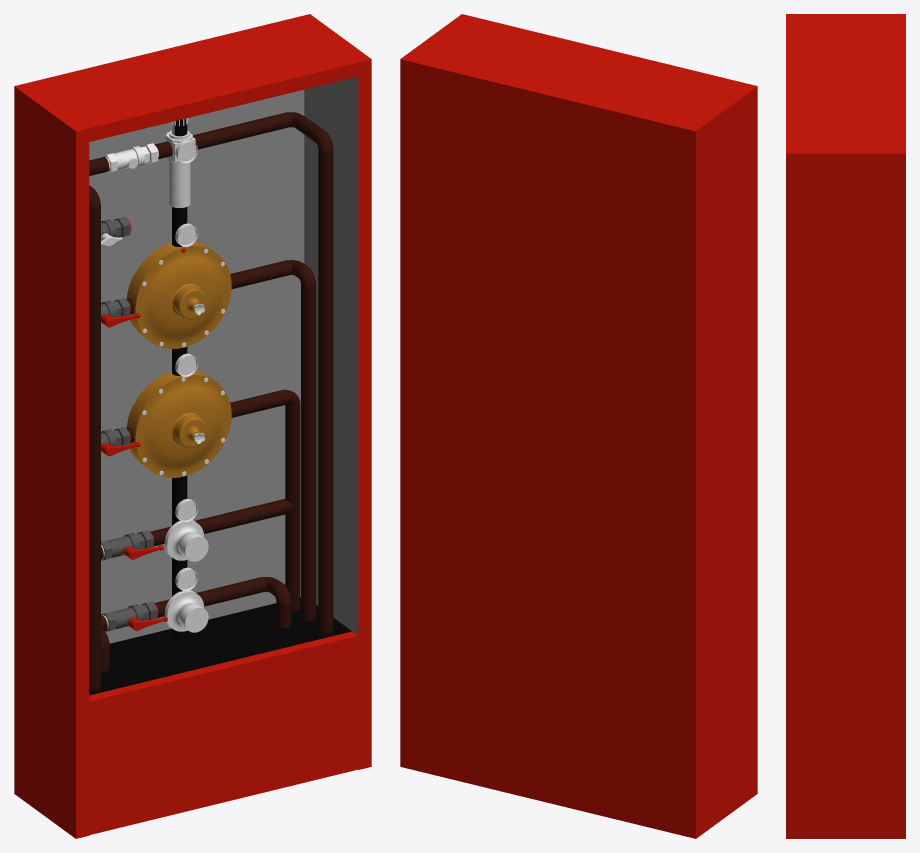
Rendered from Placard.FBX.
3 views of the same model, side by side, from view 1: azimuth 30°, elevation 25°; view 2: azimuth 150°, elevation 25°; view 3: azimuth 270°, elevation 25° (orthographic). The views are drawn at different scales.
Visible parts, largest first — view 1: Box001, Box003, Placard, Tuyau, Box002, Cylindre, Cylindre001, Cylinder006, Etape 1, Cylinder023, Cylinder020; view 2: Box003, Box001, Box002; view 3: Box001, Box002, Box003.
Boxes of the visible parts, box(x1,y1,x2,y2) form: Box001: box(22, 19, 371, 838); Box003: box(14, 14, 317, 798); Placard: box(89, 597, 358, 834); Tuyau: box(89, 112, 333, 690); Box002: box(35, 23, 358, 141); Cylindre: box(127, 241, 231, 348); Cylindre001: box(126, 370, 231, 477); Cylinder006: box(101, 389, 300, 611); Etape 1: box(164, 223, 208, 632); Cylinder023: box(172, 118, 187, 639); Cylinder020: box(168, 160, 190, 207); Box003: box(400, 53, 703, 838); Box001: box(408, 14, 757, 832); Box002: box(421, 17, 743, 122); Box001: box(786, 14, 890, 838); Box002: box(786, 20, 890, 147); Box003: box(891, 14, 905, 838).
Bounding box in the file's own units: 213 × 488 × 77.21.
